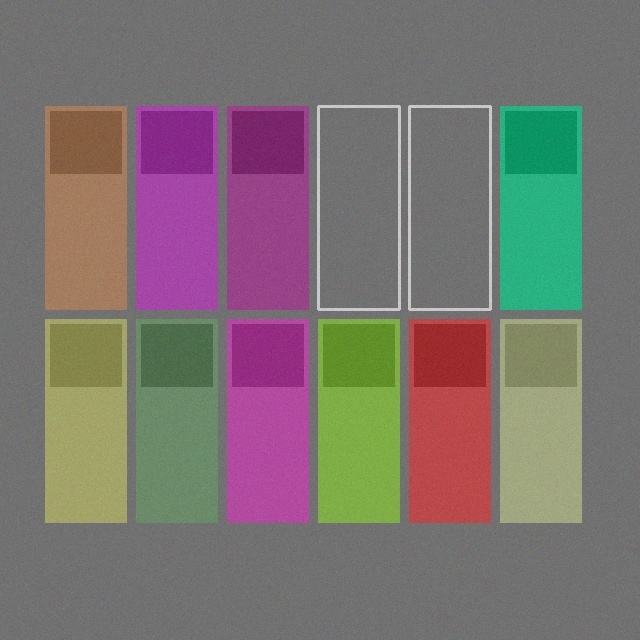space-empty: (318, 106, 399, 309), (409, 106, 490, 309)
space-occupied: (45, 106, 126, 309), (136, 106, 217, 309), (227, 106, 308, 309), (500, 106, 581, 309), (45, 319, 126, 522), (136, 319, 217, 522), (227, 319, 308, 522), (318, 319, 399, 522), (409, 319, 490, 522), (500, 319, 581, 522)
